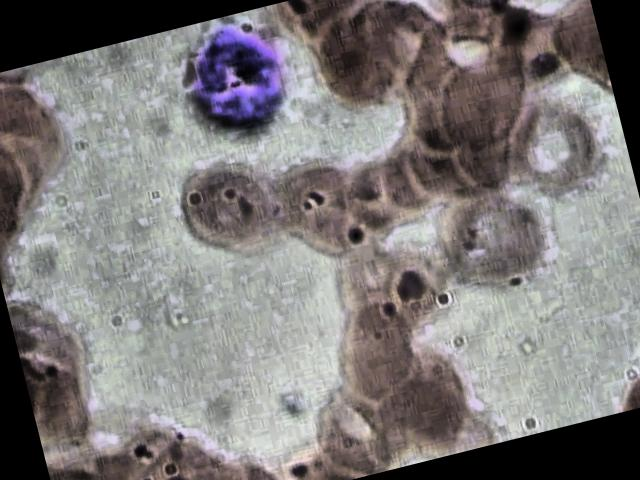RBC: (424, 174, 553, 296), (495, 80, 624, 202), (328, 226, 458, 347), (310, 283, 440, 404), (254, 143, 383, 264), (295, 2, 424, 123), (362, 340, 491, 461), (164, 148, 294, 268), (419, 36, 548, 156)
WBC: (156, 4, 311, 146)
